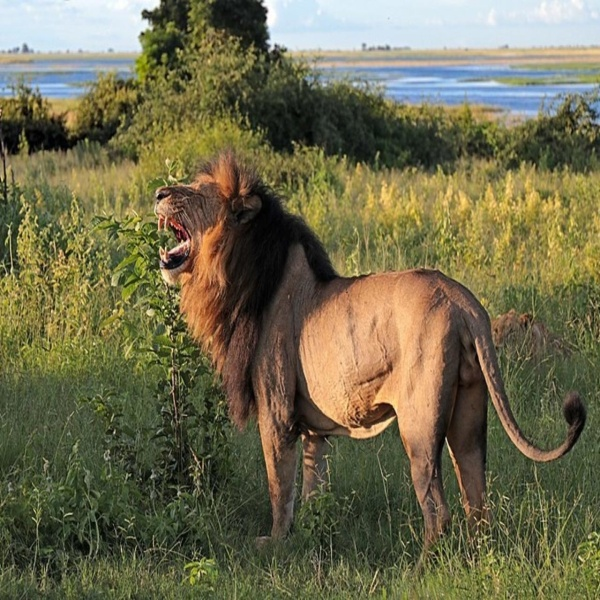Lion: (152, 144, 588, 576)
